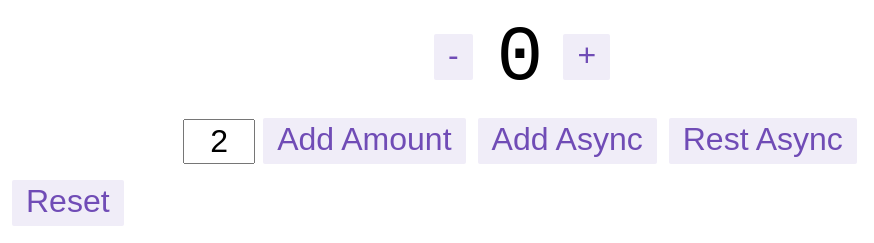
Scenario: Counter Tests › Render -1 when clicked - button
Click the button named "Decrement value": (453, 57) [434, 34, 473, 80]
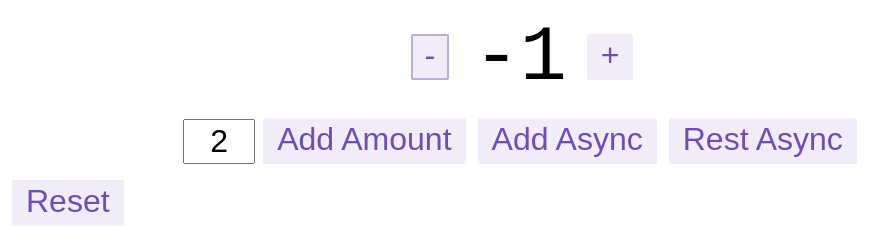
Expected: the text "-1" is shown, [473, 14, 567, 102]
